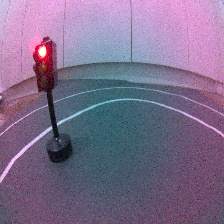red: (31, 35, 75, 163)
